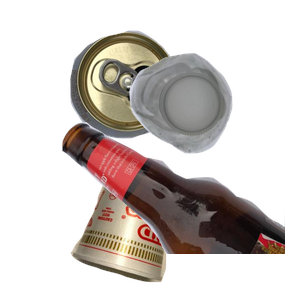glass: (60, 120, 300, 300)
metal: (68, 28, 237, 159)
plastic: (127, 51, 300, 197)
trash: (68, 158, 235, 300)
